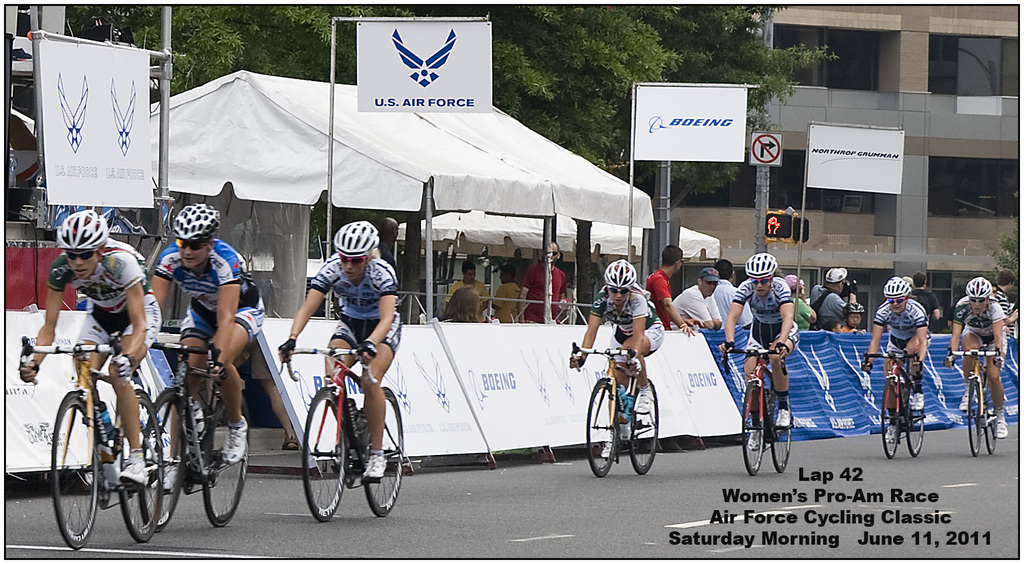Bike: (263, 338, 414, 520)
